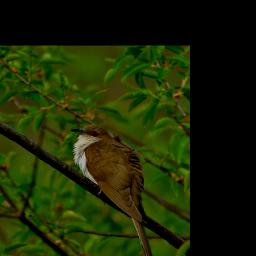Cuckoo: (69, 125, 158, 256)
